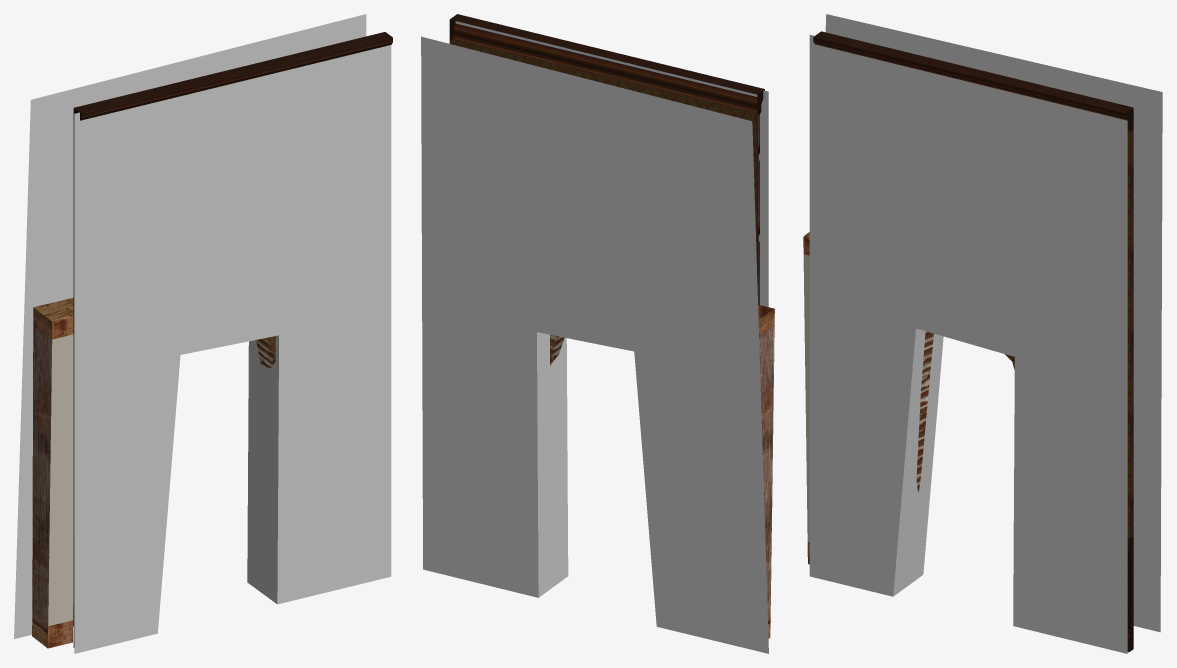
File: Tallwallbreach.fbx
3 renders of one model, left to right at view 1: azimuth 30°, elevation 25°; view 2: azimuth 150°, elevation 25°; view 3: azimuth 330°, elevation 25°, orthographic.
Visible parts, largest first — view 1: DinningWallBreach_CollMesh, TallWallBreach; view 2: DinningWallBreach_CollMesh, TallWallBreach; view 3: DinningWallBreach_CollMesh, TallWallBreach.
Part boxes in pixels (x1,y1,x2,y2): DinningWallBreach_CollMesh: (14,14,391,653); TallWallBreach: (32,32,392,648); DinningWallBreach_CollMesh: (421,21,768,653); TallWallBreach: (449,14,774,638); DinningWallBreach_CollMesh: (809,14,1162,653); TallWallBreach: (803,31,1133,652).
Size of the model in its own units: 418 by 612 by 64.96.
